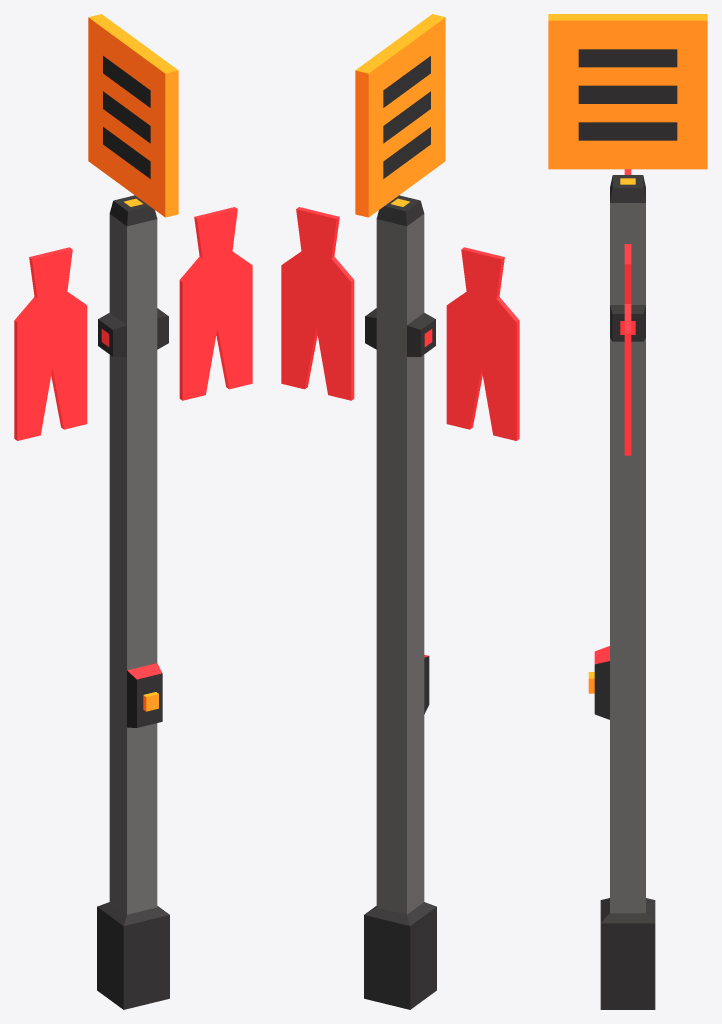
File: scifi-scifi-crossing-sign-stop.glb
3 views of the same model, side by side, from view 1: azimuth 30°, elevation 25°; view 2: azimuth 150°, elevation 25°; view 3: azimuth 270°, elevation 25° (orthographic). The views are drawn at different scales.
Visible parts, largest first — view 1: scifi-crossing-sign-stop; view 2: scifi-crossing-sign-stop; view 3: scifi-crossing-sign-stop.
Part boxes in pixels (<box>): scifi-crossing-sign-stop: <box>14,14,252,1009</box>; scifi-crossing-sign-stop: <box>281,14,519,1009</box>; scifi-crossing-sign-stop: <box>548,14,707,1009</box>.
Size of the model in its own units: 0.8803 by 3.4 by 0.5001.
